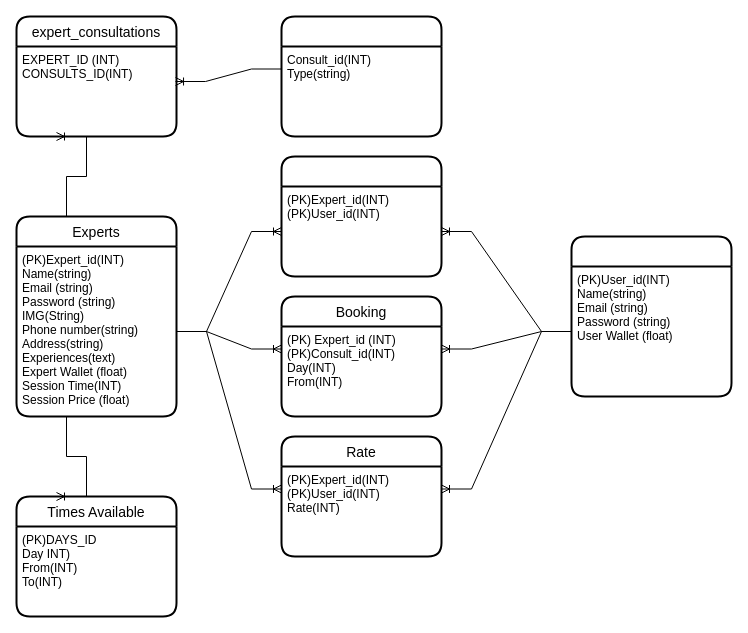
The diagram is 748 pixels wide and 633 high, and some of its shapes have lost their labels. Here are the shapes that lost their labels. From the top down, the box of each, then its label:
(280, 15, 442, 137): Consults Type
(280, 155, 442, 277): Favorites
(570, 235, 732, 397): Users
